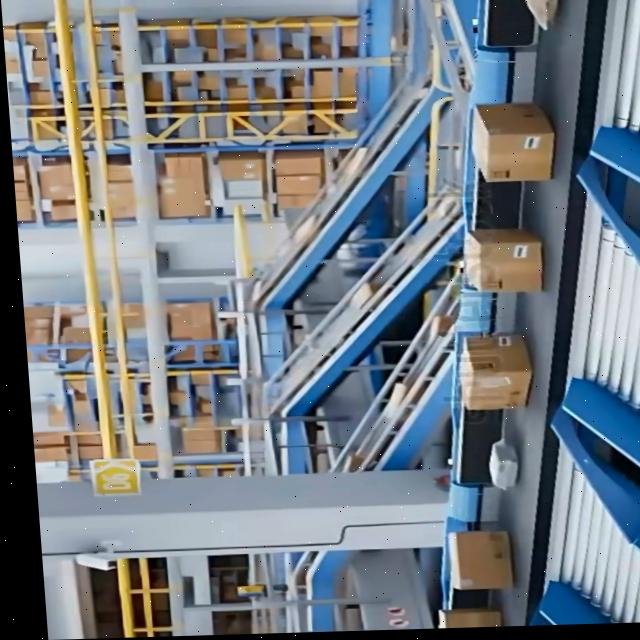product 1: (455, 334, 534, 412), (460, 228, 545, 295), (468, 126, 558, 184), (445, 530, 511, 557)
product 2: (484, 440, 520, 491)
